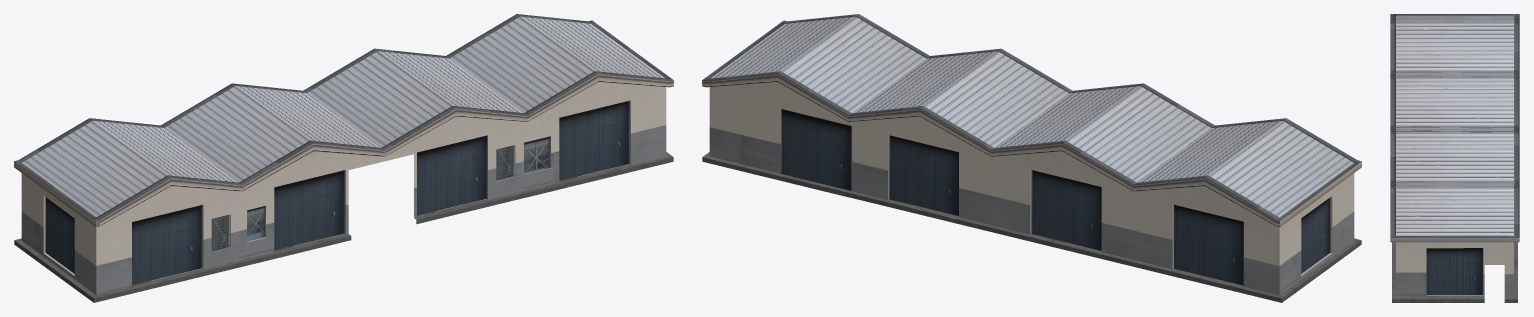
The model's file is SM_WarehouseWalkable.glb.
3 views of the same model, side by side, from view 1: azimuth 30°, elevation 25°; view 2: azimuth 150°, elevation 25°; view 3: azimuth 270°, elevation 25° (orthographic). The views are drawn at different scales.
Parts seen in each view (by area): view 1: SM_WarehouseWalkable; view 2: SM_WarehouseWalkable; view 3: SM_WarehouseWalkable.
Part boxes in pixels (x1,y1,x2,y2): SM_WarehouseWalkable: [14, 14, 673, 302]; SM_WarehouseWalkable: [702, 14, 1361, 302]; SM_WarehouseWalkable: [1390, 14, 1519, 302].
Bounding box in the file's own units: 28 × 4.95 × 6.84.
Materials: 1 (1 with a texture image).
